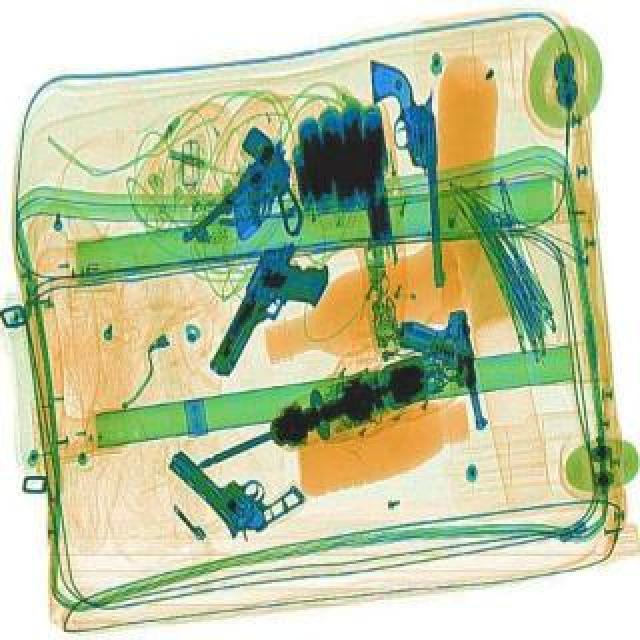gun: (174, 140, 334, 288), (158, 410, 310, 550), (206, 234, 338, 394), (368, 52, 450, 288), (392, 306, 488, 438)
